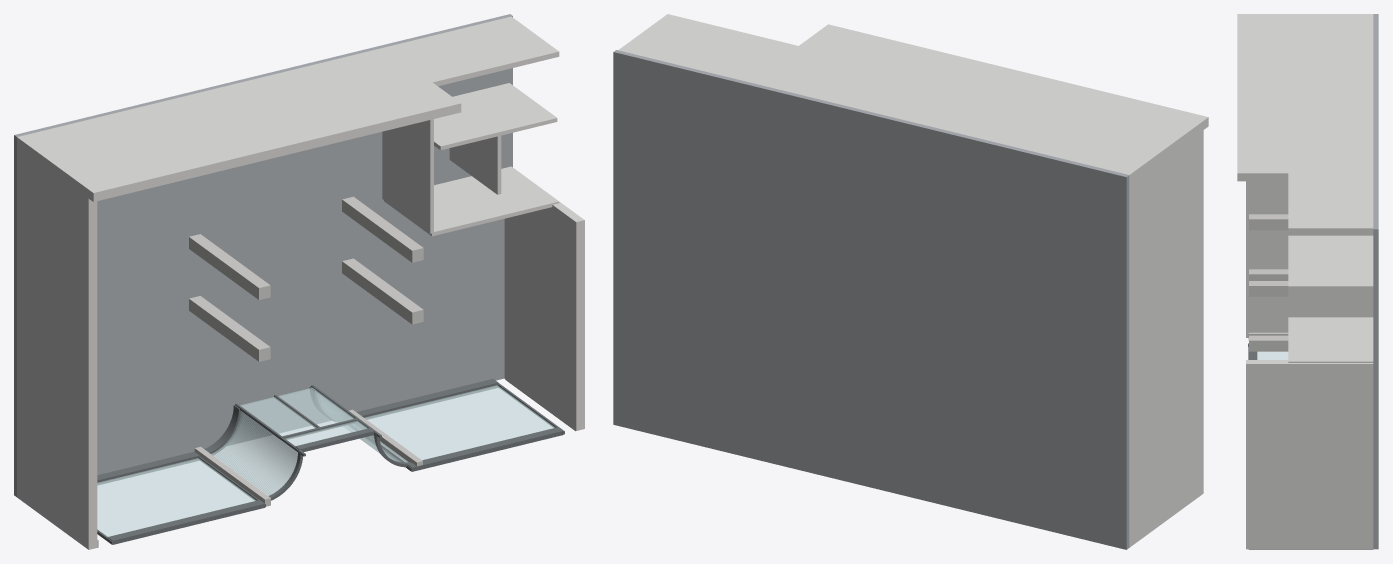
The model's file is 3D-Modell.glb.
3 renders of one model, left to right at view 1: azimuth 30°, elevation 25°; view 2: azimuth 150°, elevation 25°; view 3: azimuth 270°, elevation 25°, orthographic. The views are drawn at different scales.
Parts seen in each view (by area): view 1: Boden, Rueckwand Hauptgalerie, Linke Aussenwand, Rechte Aussenwand, Schaufenster_EIN_Glas_Rechts_0, Schaufenster_EIN_Glas_Links_0, Anbau_Obere_Aussenwand, Anbau_Querwand, Anbau_Seitenwand, Anbau_WC_Trennwand, Eingang_Glastueren_0, Anbau_Abstellraum (+10 smaller); view 2: Boden, Rueckwand Hauptgalerie, Linke Aussenwand, Anbau_Obere_Aussenwand; view 3: Rechte Aussenwand, Rueckwand Hauptgalerie, Linke Aussenwand, Anbau_Obere_Aussenwand, Anbau_WC_Trennwand, Anbau_Querwand, Boden, Anbau_Abstellraum, Stuetze_1, Stuetze_2, Stuetze_3, Stuetze (+2 smaller).
Part boxes in pixels (x1,y1,x2,y2): Boden: (14, 14, 512, 496); Rueckwand Hauptgalerie: (17, 47, 461, 201); Linke Aussenwand: (17, 135, 97, 549); Rechte Aussenwand: (504, 201, 584, 430); Schaufenster_EIN_Glas_Rechts_0: (364, 385, 554, 461); Schaufenster_EIN_Glas_Links_0: (97, 458, 256, 536); Anbau_Obere_Aussenwand: (384, 16, 559, 86); Anbau_Querwand: (384, 166, 559, 236); Anbau_Seitenwand: (382, 119, 433, 233); Anbau_WC_Trennwand: (434, 83, 557, 150); Eingang_Glastueren_0: (240, 387, 354, 436); Anbau_Abstellraum: (449, 134, 501, 194); Boden: (613, 50, 1129, 549); Rueckwand Hauptgalerie: (750, 24, 1208, 181); Linke Aussenwand: (1122, 119, 1203, 547); Anbau_Obere_Aussenwand: (618, 14, 798, 82); Rechte Aussenwand: (1246, 360, 1373, 549); Rueckwand Hauptgalerie: (1237, 14, 1373, 181); Linke Aussenwand: (1246, 14, 1373, 337); Anbau_Obere_Aussenwand: (1288, 173, 1373, 232); Anbau_WC_Trennwand: (1288, 235, 1373, 289); Anbau_Querwand: (1288, 317, 1373, 362); Boden: (1373, 14, 1378, 549); Anbau_Abstellraum: (1288, 289, 1373, 317); Stuetze_1: (1249, 214, 1288, 230); Stuetze_2: (1249, 335, 1288, 351); Stuetze_3: (1249, 281, 1288, 296); Stuetze: (1249, 269, 1288, 280).
Bounding box in the file's own units: 16.14 × 11.28 × 4.47.
